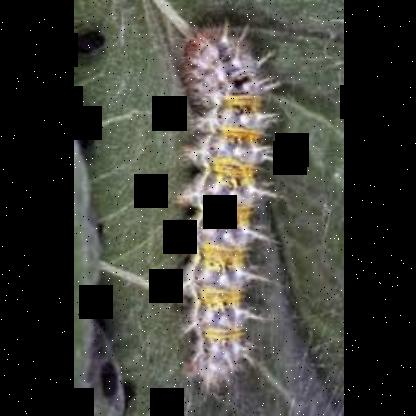oruga: (162, 15, 268, 389)
